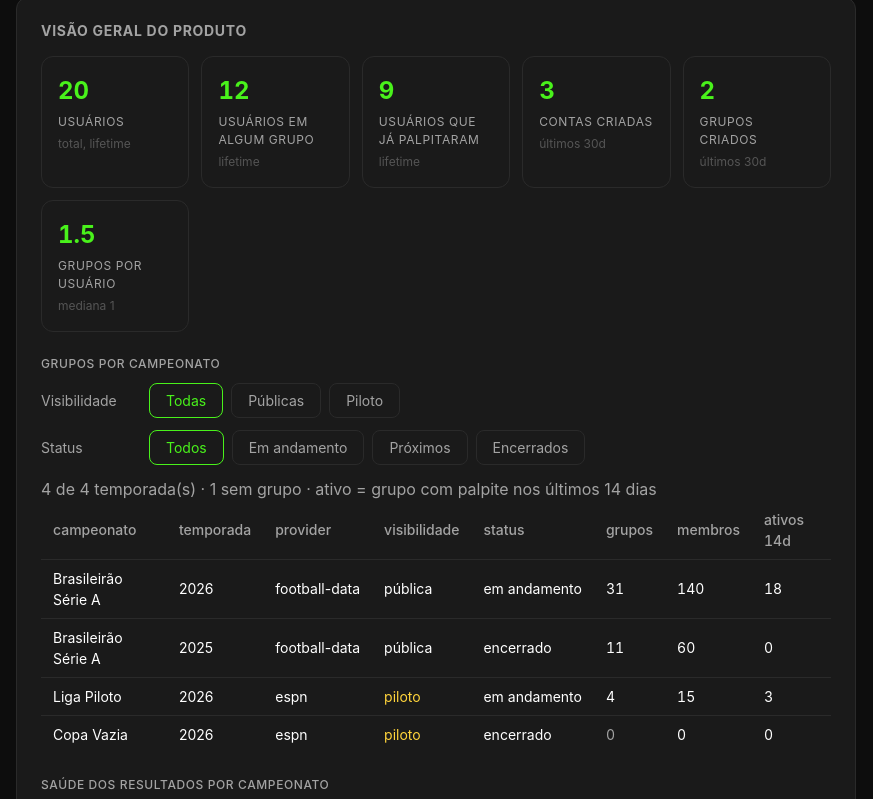
Test: AdminMetricsPage · grupos por campeonato › filtra por visibilidade e status
(page scrolled)
Check: the heading "Grupos por campeonato" is shown, box [41,356,220,370]
What coordinates should you click on to do the following:
click the button "Piloto"
I would click on:
 (365, 400)
Its box is [329,382,400,418].
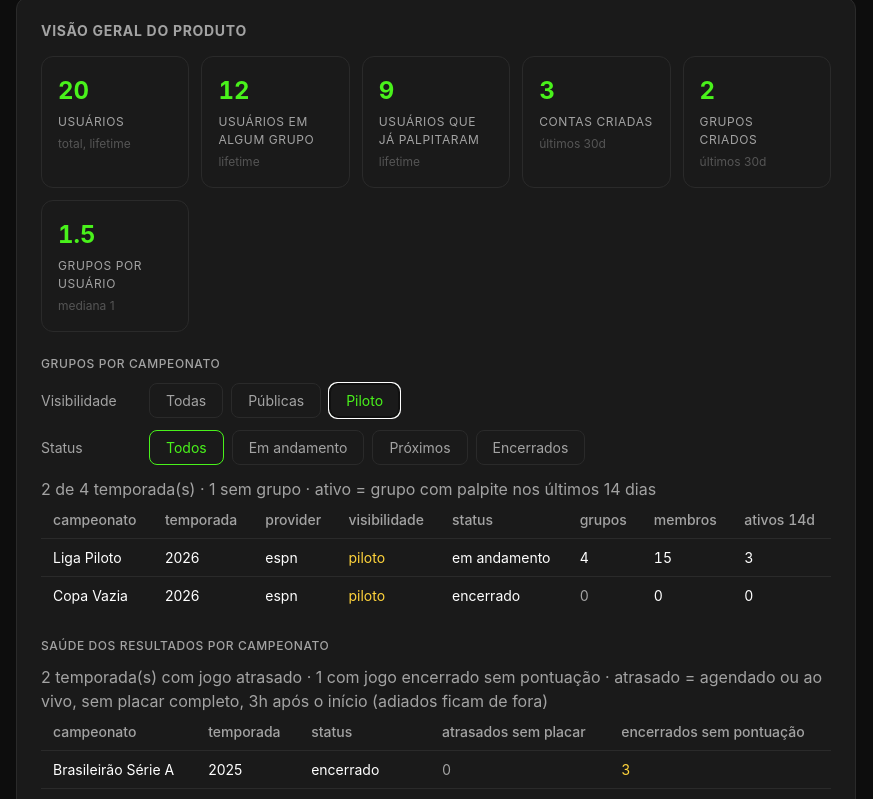
Check: the row "Liga Piloto 2026 espn piloto em andamento 4 15 3" is shown, box [41,538,831,576]
Check: the text "2 de 4 temporada(s) · 1 sem grupo" is shown, box [41,478,656,498]
What coordinates should you click on to do the following:
click the button "Em andamento"
I would click on:
 (298, 447)
Its box is [232,430,364,464].
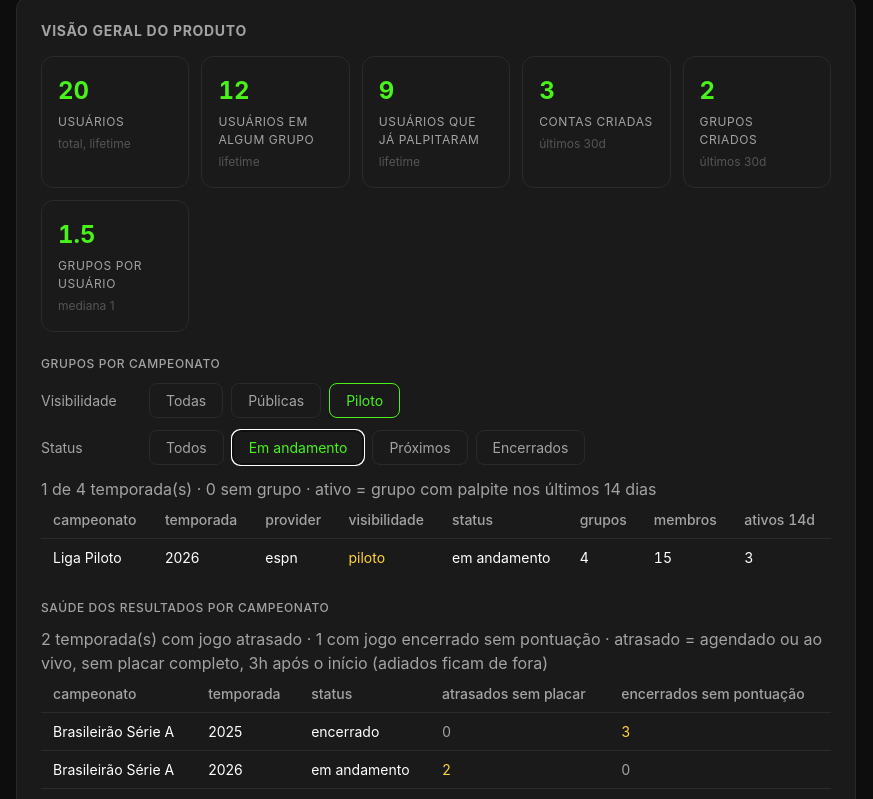
Check: the row "Liga Piloto 2026 espn piloto em andamento 4 15 3" is shown, box [41,538,831,576]
Check: the row "Copa Vazia" is not shown
What coordinates should you click on to do the following:
click the button "Todas"
I would click on:
 (186, 400)
Its box is [149,382,223,418].
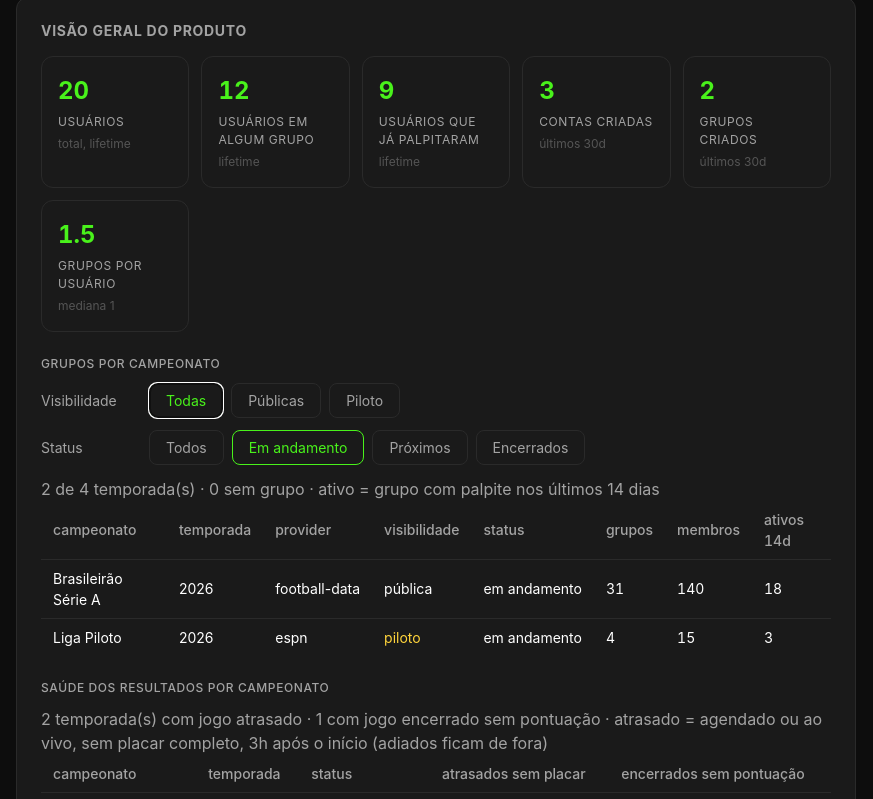
What coordinates should you click on to do the following:
click the button "Encerrados"
I would click on:
 (530, 447)
Its box is [476,430,585,464].
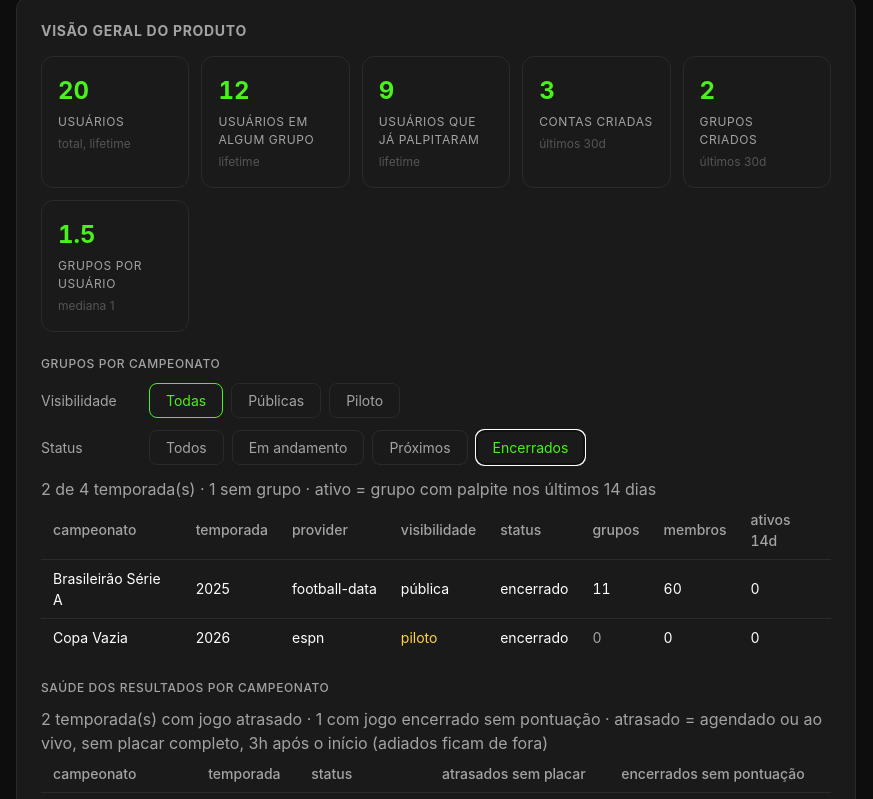
Check: the row "Brasileirão Série A 2026" is not shown
Check: the row "Brasileirão Série A 2025" is shown, box [41,559,831,618]
Check: the row "Copa Vazia 2026 espn piloto encerrado 0 0 0" is shown, box [41,618,831,656]
